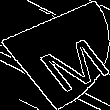M_NW: (10, 21, 100, 89)
